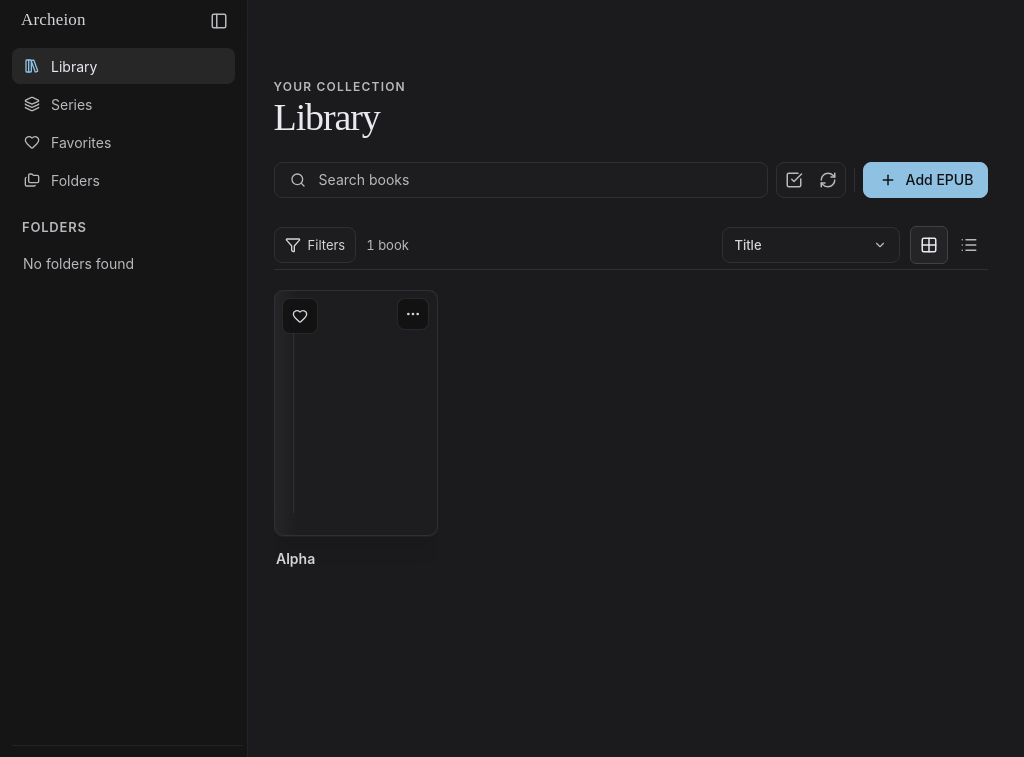
Test: LibraryPage selection and bulk workflows › exits selection mode after a bulk action completes
Click the button "Alpha" at x=355, y=452, box left=274, top=290, right=437, bottom=613
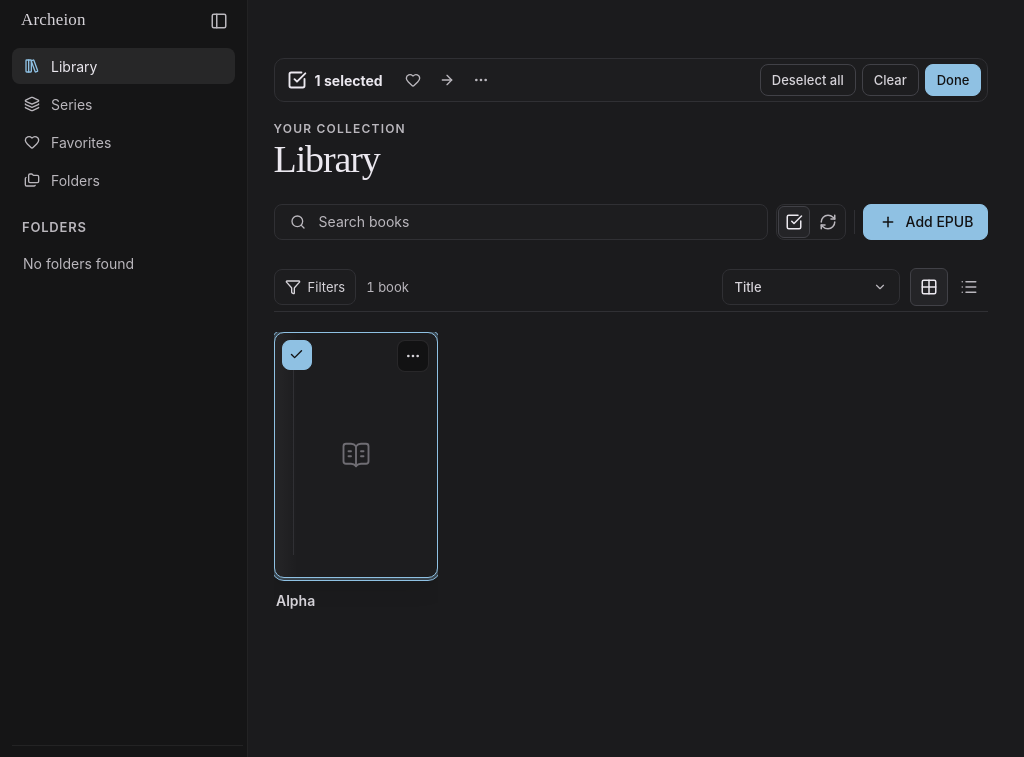
Click the button named "Add selected books to favorites" at x=413, y=80, box left=397, top=64, right=429, bottom=96
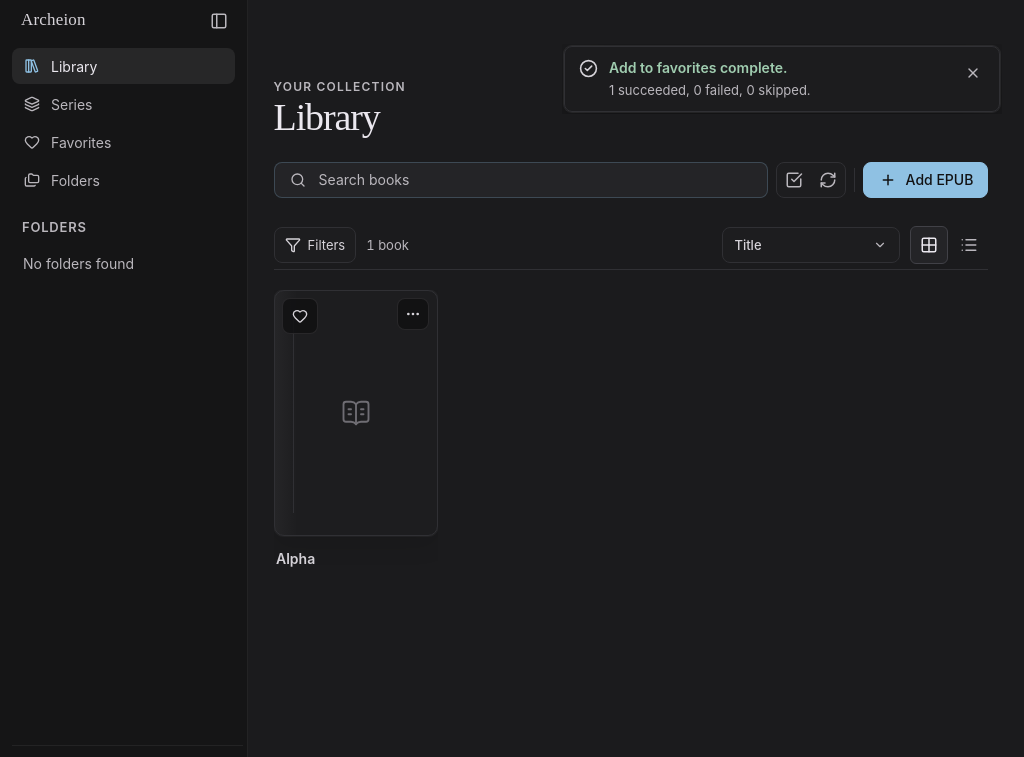
Check: the element with class "library-selection-bar" is gone
